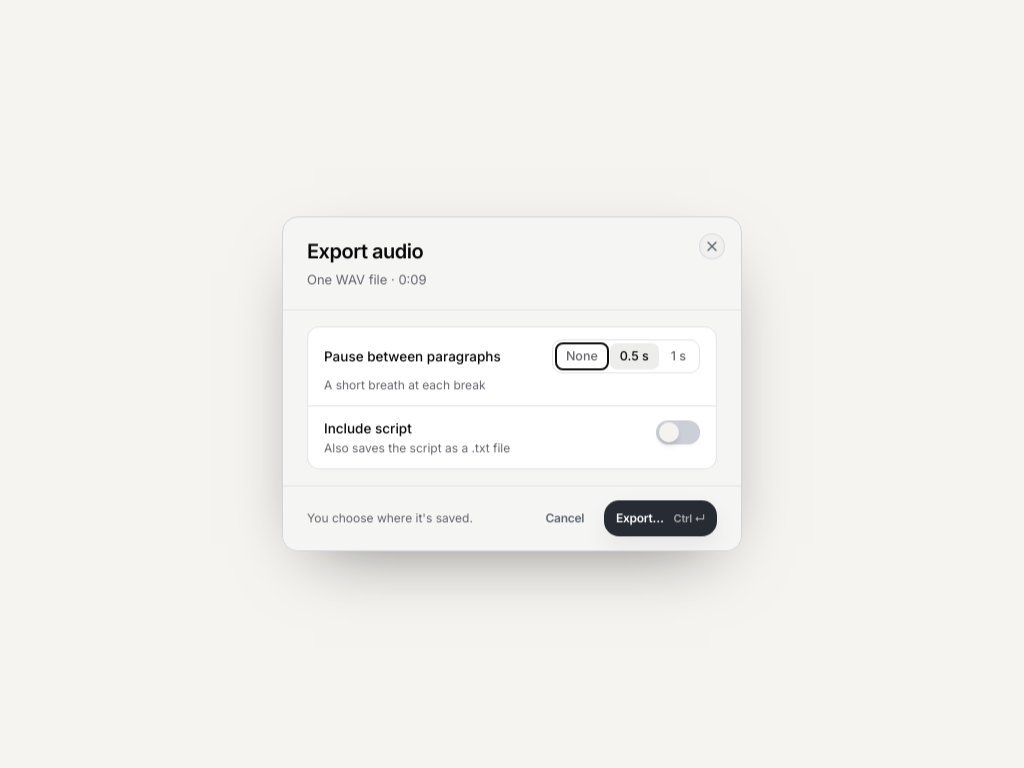
Test: StudioExportDialog › shows the server's reason when the export fails
The width and height of the screenshot is (1024, 768).
What coordinates should you click on to do the following:
click the button "Export… Ctrl ↵"
I would click on:
 (661, 519)
Its box is x1=604 y1=501 x2=717 y2=537.
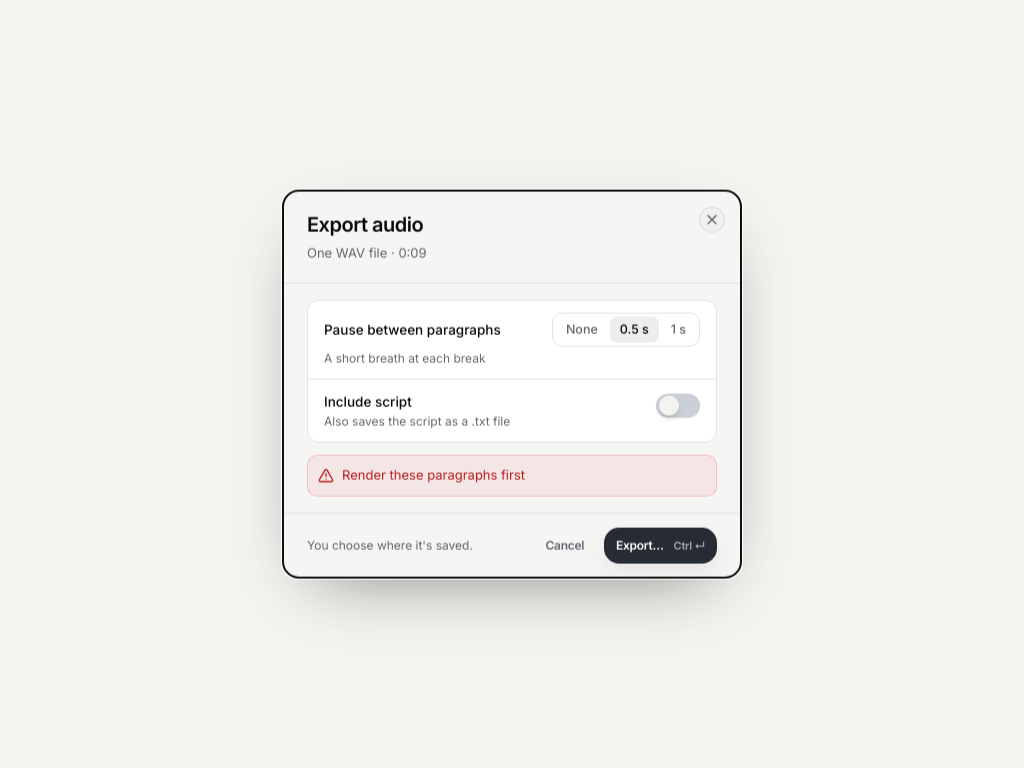
Expected: the message reads "Render these paragraphs first", x1=342 y1=467 x2=525 y2=483
